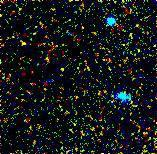star: (6, 23, 36, 53)
